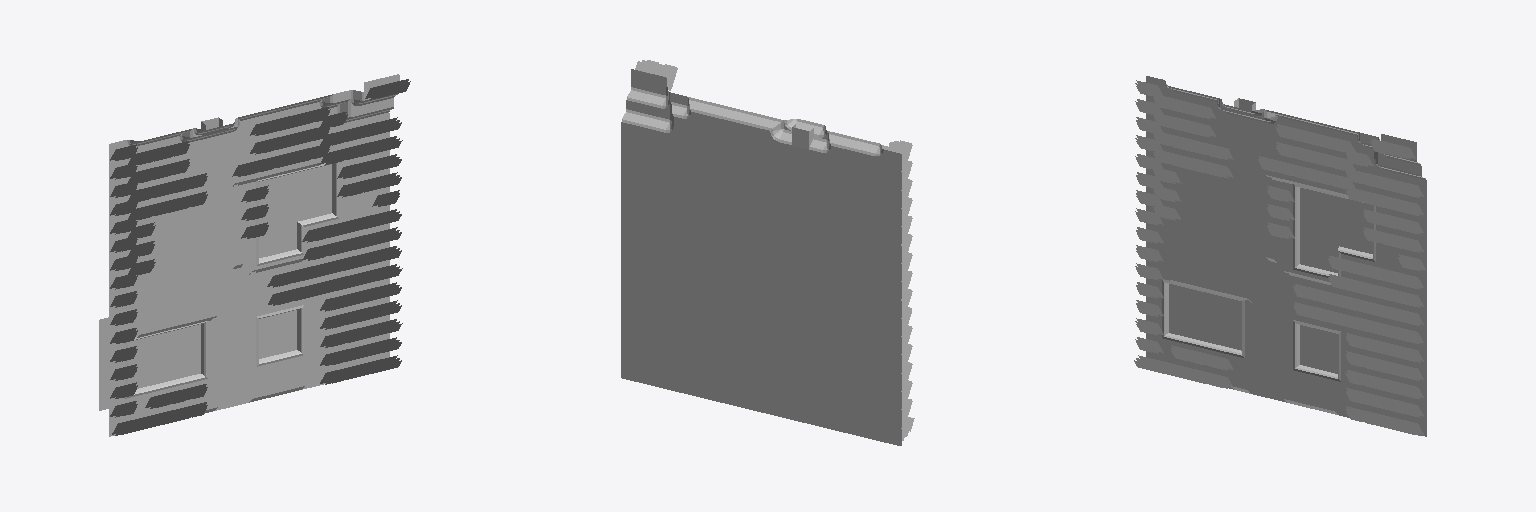
File: Plat_full_04_16.obj
3 renders of one model, left to right at view 1: azimuth 30°, elevation 25°; view 2: azimuth 150°, elevation 25°; view 3: azimuth 330°, elevation 25°, orthographic.
Visible parts, largest first — view 1: map; view 2: map; view 3: map.
Part boxes in pixels (x1,y1,x2,y2): map: (99,74,410,436); map: (621,60,914,445); map: (1134,76,1426,436).
Size of the model in its own units: 32.5 by 33.12 by 6.64.